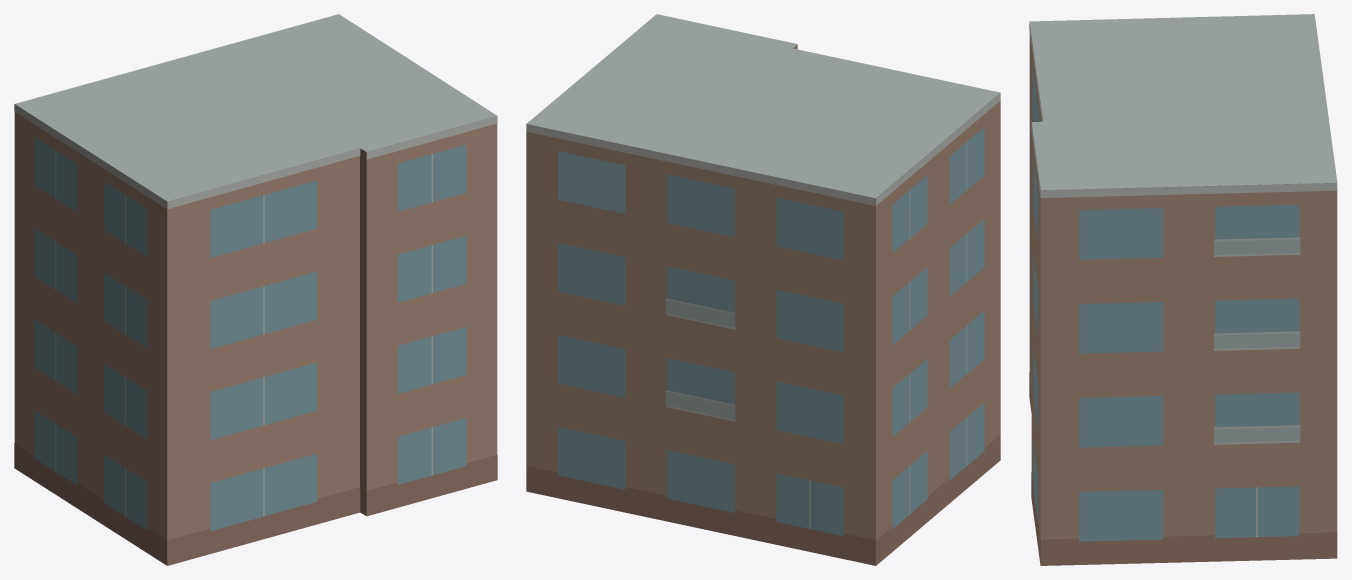
The model's file is survey-upis-32706313.glb.
3 renders of one model, left to right at view 1: azimuth 30°, elevation 25°; view 2: azimuth 150°, elevation 25°; view 3: azimuth 270°, elevation 25°, orthographic. The views are drawn at different scales.
Visible parts, largest first — view 1: survey-upis-32706313.tmp; view 2: survey-upis-32706313.tmp; view 3: survey-upis-32706313.tmp.
Boxes of the visible parts, x1,y1,x2,y2 form: survey-upis-32706313.tmp: (14, 14, 497, 565); survey-upis-32706313.tmp: (526, 14, 1000, 565); survey-upis-32706313.tmp: (1029, 14, 1337, 565).
Bounding box in the file's own units: 11.68 × 11.6 × 8.63.
